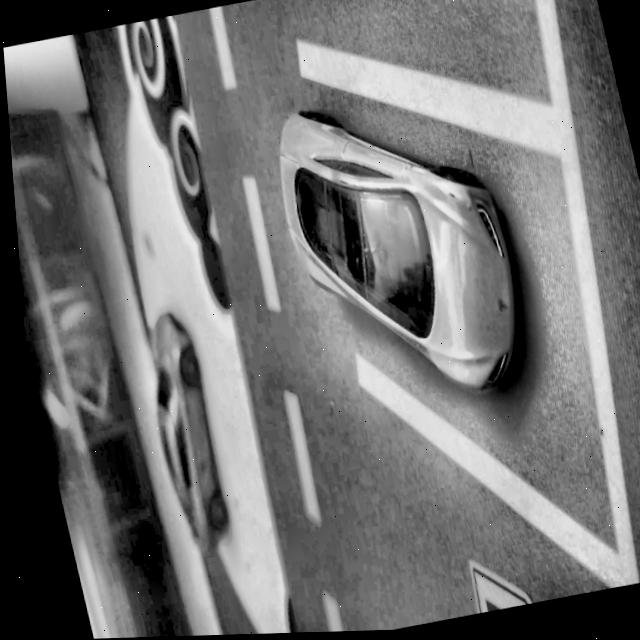car: (257, 81, 535, 426), (123, 305, 234, 559)
